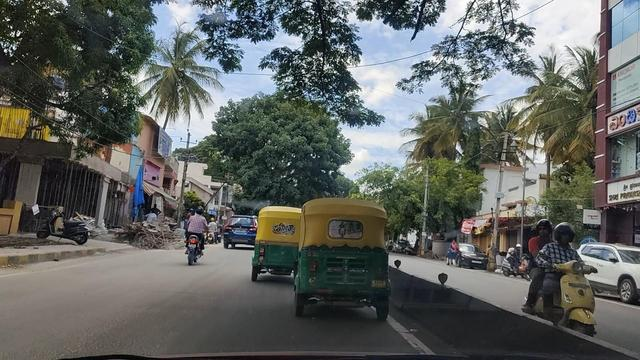LMV: (299, 196, 391, 321), (253, 208, 303, 279), (173, 203, 218, 265)
RoadDamages: (34, 310, 200, 358)
